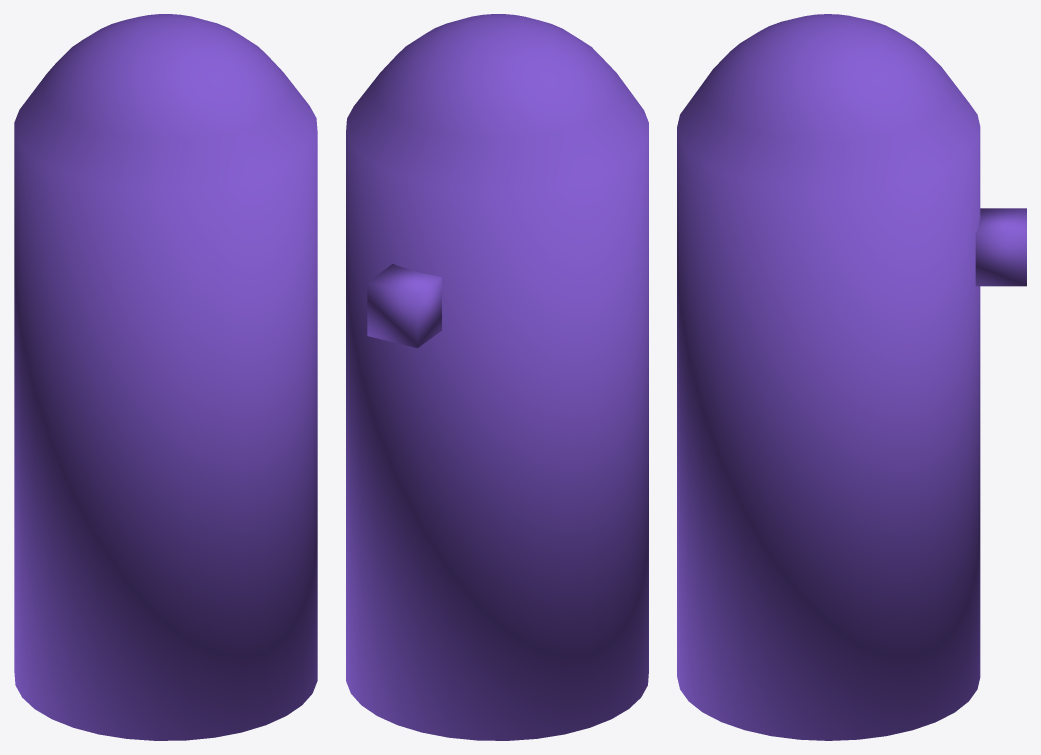
The model's file is Conehead_Base 1.fbx.
The picture shows the model from 3 angles, left to right: view 1: azimuth 30°, elevation 25°; view 2: azimuth 150°, elevation 25°; view 3: azimuth 270°, elevation 25°; orthographic projection.
Parts seen in each view (by area): view 1: Cylinder; view 2: Cylinder; view 3: Cylinder.
Boxes of the visible parts, bbox=[...] form: Cylinder: bbox=[14, 14, 317, 740]; Cylinder: bbox=[346, 14, 648, 740]; Cylinder: bbox=[677, 14, 1026, 740].
Bounding box in the file's own units: 206 × 485 × 237.
